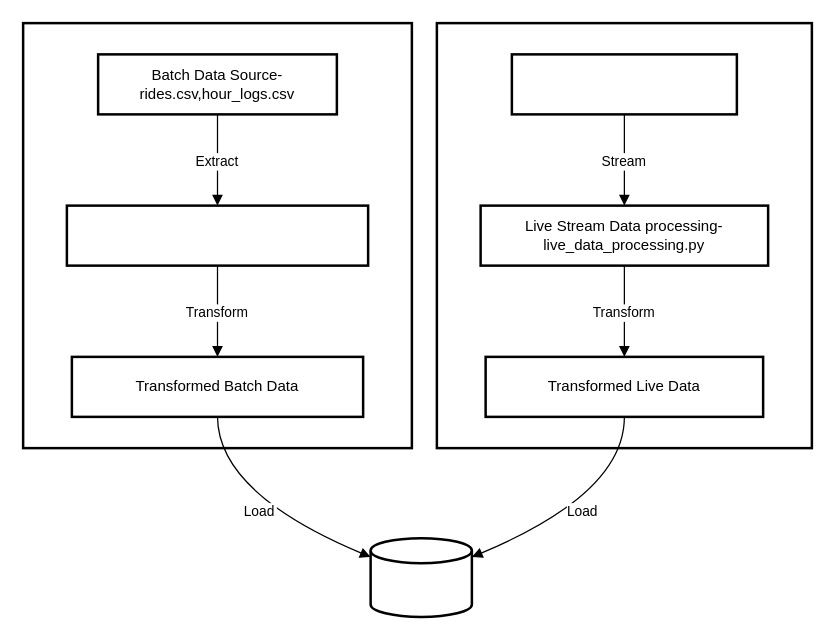
The diagram is 834 pixels wide and 639 high, and some of its shapes have lost their labels. The centre of each missing label's shape, as x and y in pixels:
"Batch Processing-etl_batch.py,batch_querying.py" goes at (217,235).
"Database-rides.db" goes at (420,577).
"Live Data Source-rides.jsonl" goes at (624,83).
